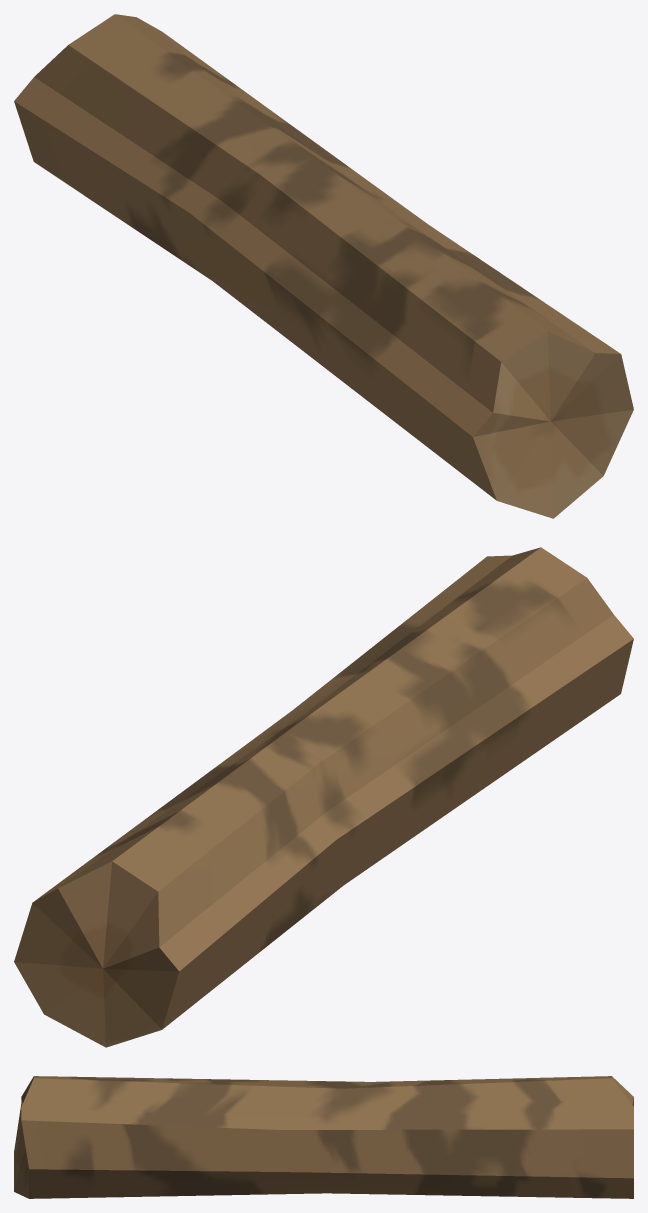
The model's file is SM_Prop_Log_Wide_01.fbx.
The picture shows the model from 3 angles, top to bottom: view 1: azimuth 30°, elevation 25°; view 2: azimuth 150°, elevation 25°; view 3: azimuth 270°, elevation 25°; orthographic projection. The views are drawn at different scales.
Visible parts, largest first — view 1: SM_Prop_Log_Wide_01; view 2: SM_Prop_Log_Wide_01; view 3: SM_Prop_Log_Wide_01.
Boxes of the visible parts, x1,y1,x2,y2 form: SM_Prop_Log_Wide_01: [14, 14, 633, 518]; SM_Prop_Log_Wide_01: [14, 547, 633, 1047]; SM_Prop_Log_Wide_01: [14, 1076, 633, 1198].
Size of the model in its own units: 159 by 159 by 766.
